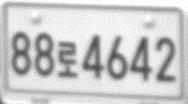2: (155, 36, 177, 84)
4: (81, 34, 106, 80), (129, 36, 153, 82)
6: (106, 35, 129, 80)
8: (10, 31, 32, 74), (33, 32, 54, 76)
로: (57, 39, 78, 79)
